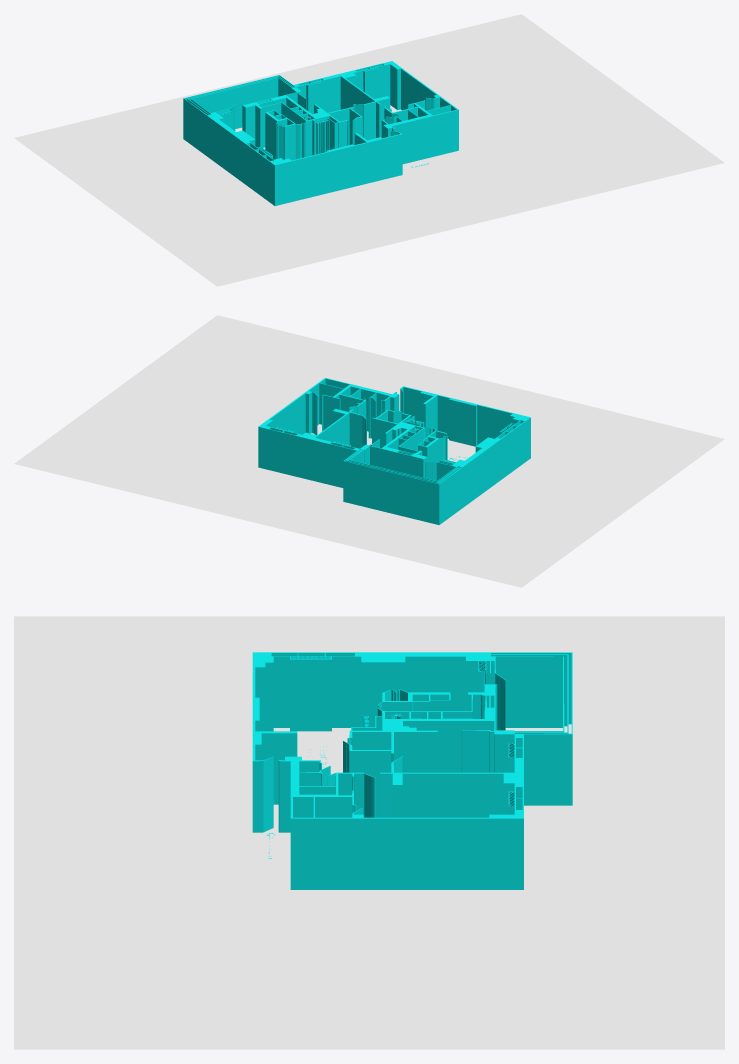
The picture shows the model from 3 angles, top to bottom: view 1: azimuth 30°, elevation 25°; view 2: azimuth 150°, elevation 25°; view 3: azimuth 270°, elevation 25°; orthographic projection. The views are drawn at different scales.
Visible parts, largest first — view 1: path2, path1.001; view 2: path2, path1.001; view 3: path2, path1.001.
Boxes of the visible parts, left/top/right/bottom form: path2: left=14, top=14, right=724, bottom=286; path1.001: left=183, top=61, right=458, bottom=205; path2: left=14, top=315, right=724, bottom=587; path1.001: left=258, top=378, right=530, bottom=524; path2: left=14, top=616, right=724, bottom=1049; path1.001: left=252, top=652, right=572, bottom=889.
Bounding box in the file's own units: 4.45 × 0.342 × 3.09.
